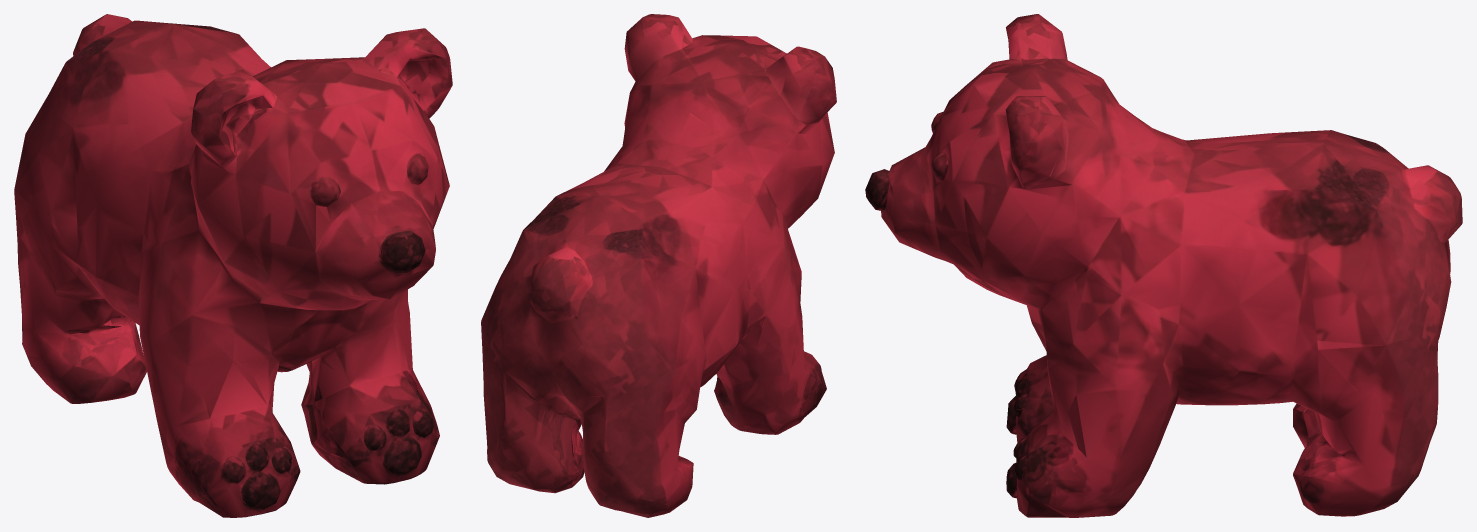
The model's file is Meshy_AI_Ruby_Bear_0823055304_texture.fbx.
3 views of the same model, side by side, from view 1: azimuth 30°, elevation 25°; view 2: azimuth 150°, elevation 25°; view 3: azimuth 270°, elevation 25° (orthographic). The views are drawn at different scales.
Parts seen in each view (by area): view 1: output_unwrapped; view 2: output_unwrapped; view 3: output_unwrapped.
Part boxes in pixels (box(x1,y1,x2,y2)): output_unwrapped: box(14, 14, 452, 517); output_unwrapped: box(481, 14, 836, 517); output_unwrapped: box(865, 14, 1462, 517).
Bounding box in the file's own units: 89.33 × 146 × 191.
Materials: 1 (1 with a texture image).
